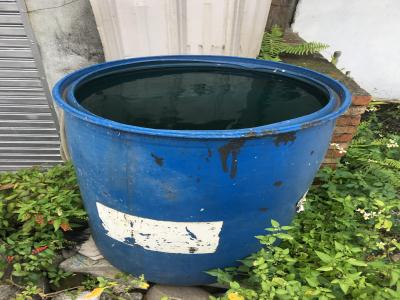bucket: (47, 53, 353, 289)
